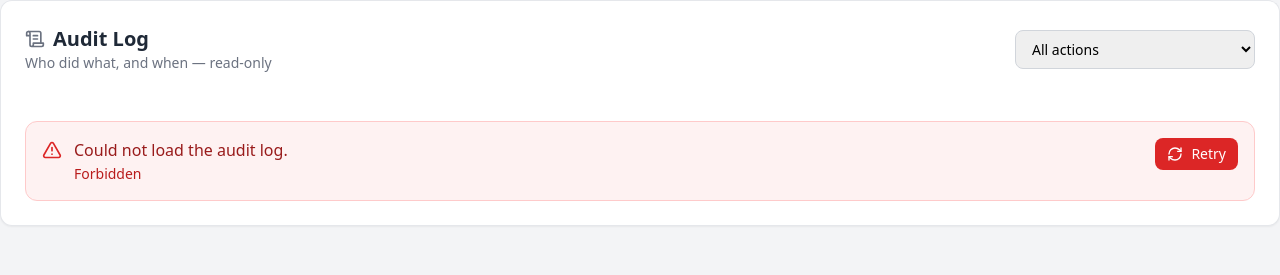
Test: AuditLogView › a failed load shows the retry banner, and retry re-fetches
Expected: the message shows "Could not load the audit log", [25, 121, 1255, 201]
What coordinates should you click on to do the following:
click the button "Retry"
I would click on:
 (1197, 154)
Its box is [1155, 138, 1238, 170].
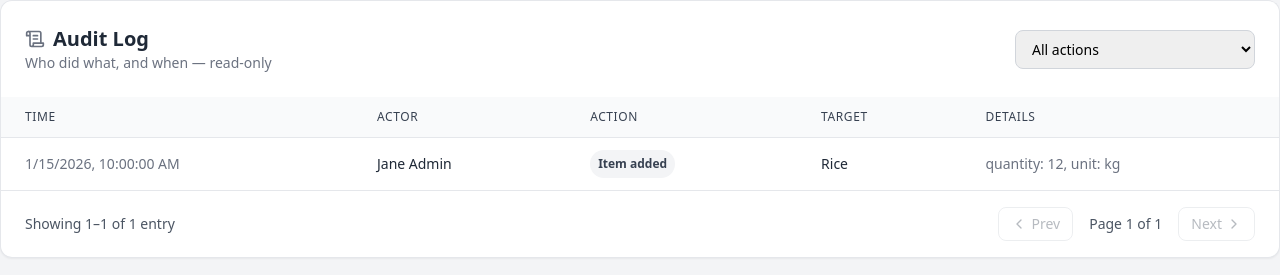
Result: the text "Rice" is shown at [797, 138, 961, 190]
Result: the message "Could not load the audit log. Forbidden Retry" is gone
